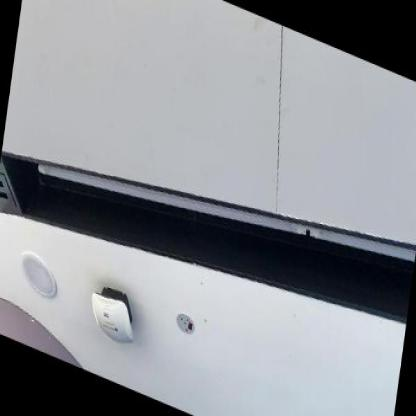light_off: (26, 24, 415, 354)
